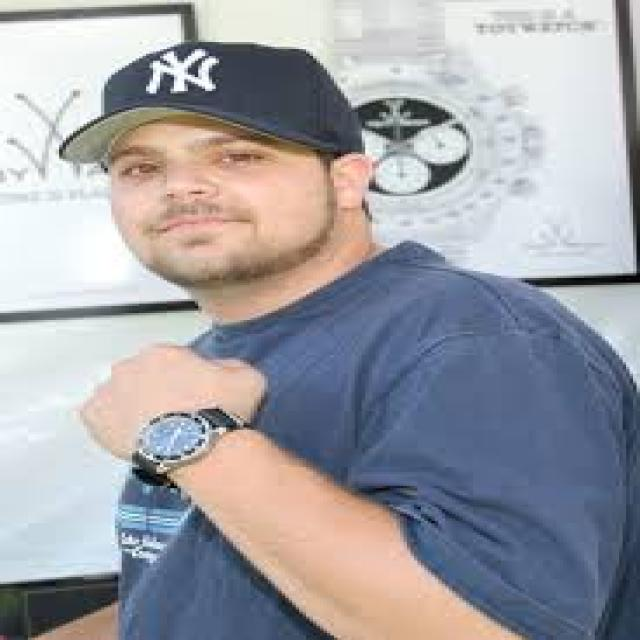3_gorra: (55, 39, 367, 160)
